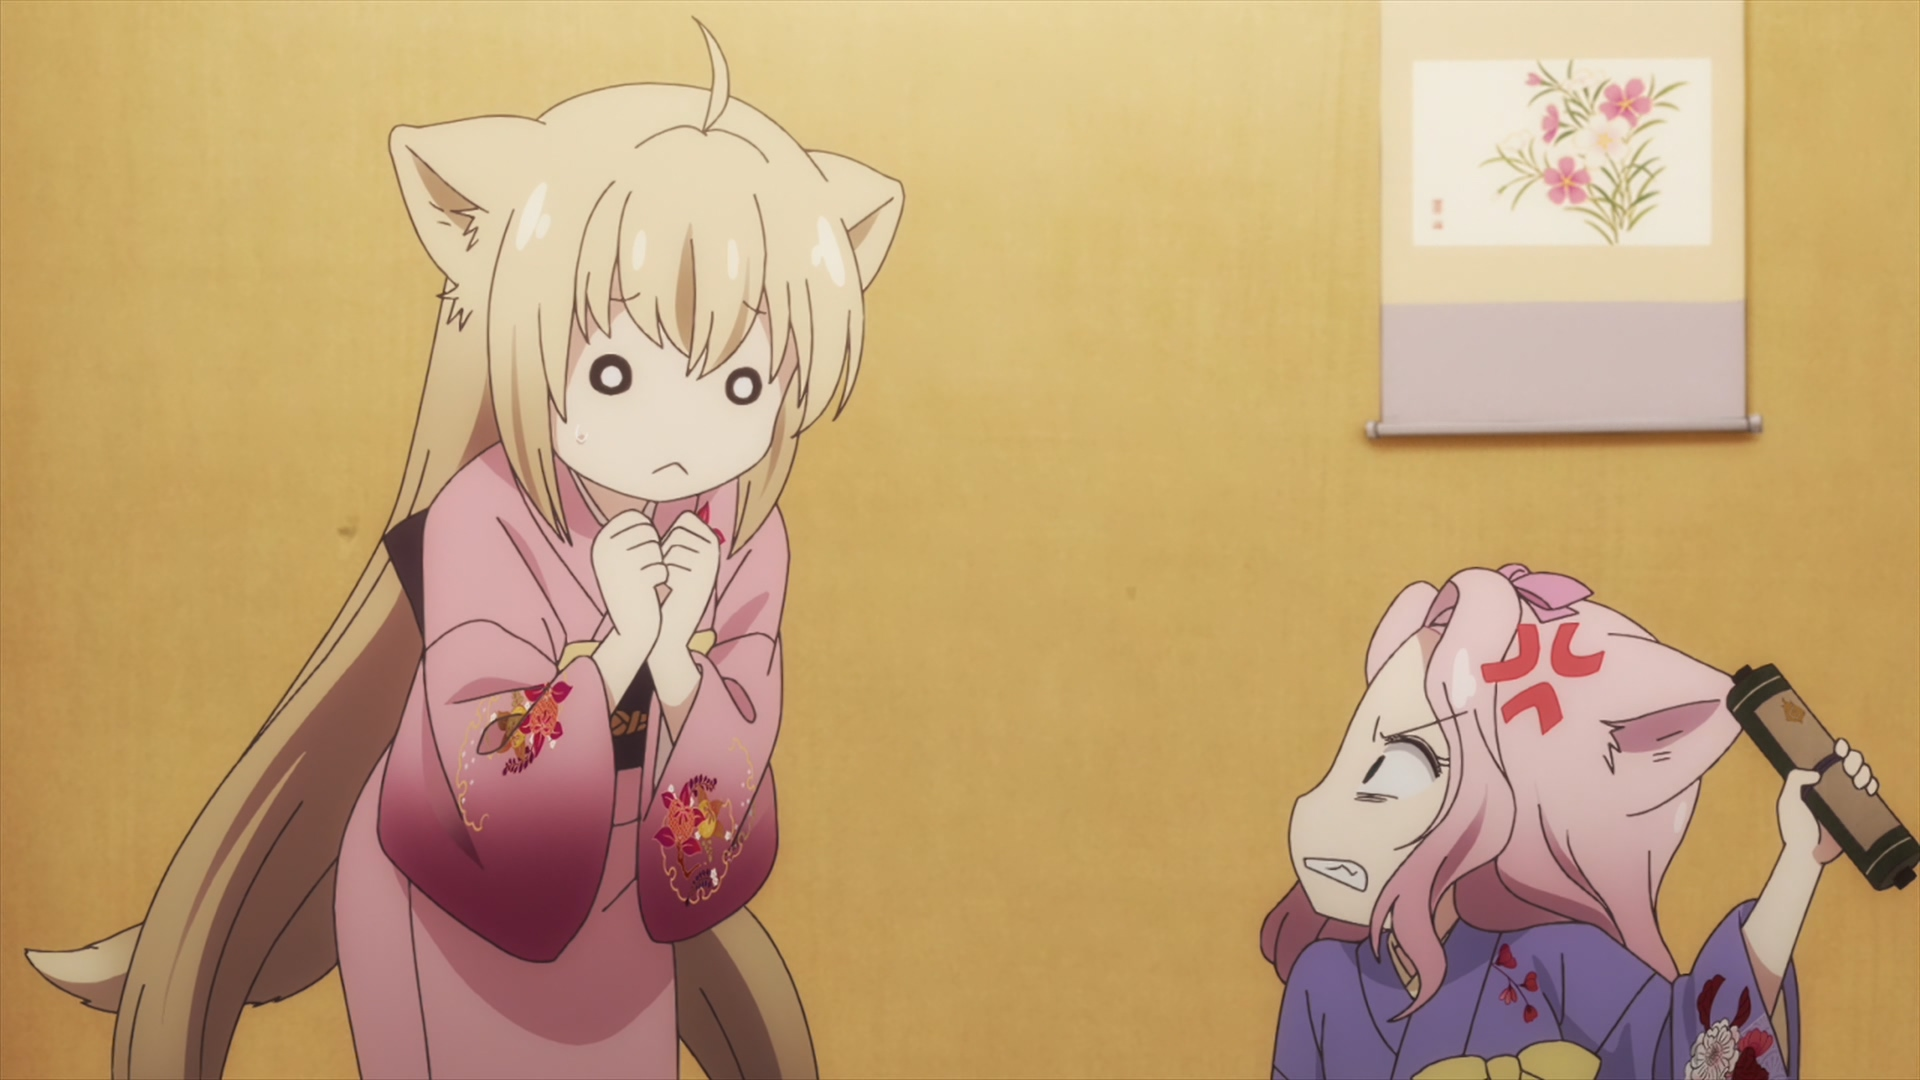柚: (26, 18, 905, 1080)
莲: (1261, 564, 1878, 1080)
